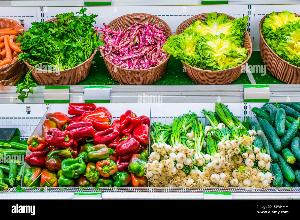bell_pepper: (31, 96, 151, 198)
carrot: (1, 15, 25, 76)
cucumber: (252, 102, 300, 188)
zucchini: (0, 118, 39, 194)
